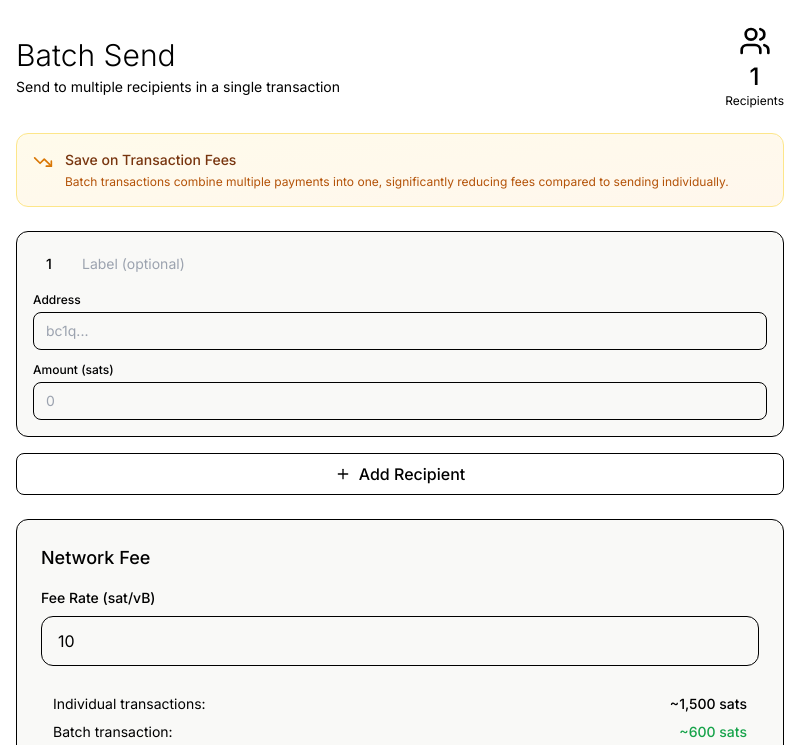
it: BatchSend Component › should update total when amount is entered
Type "10000" into the number field with placeholder "0" at x=400, y=401, box [33,382,767,420]
(page scrolled)
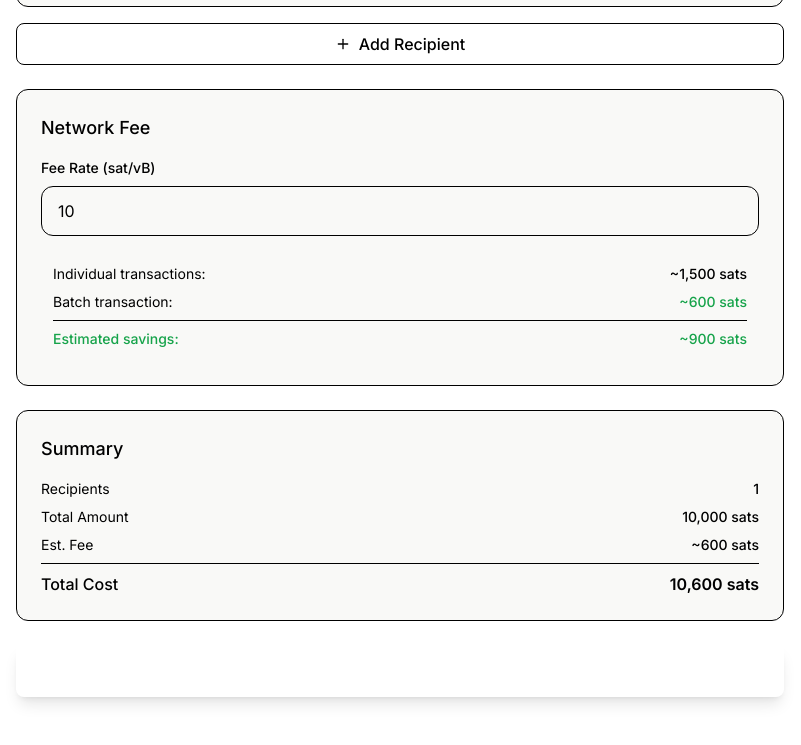
Now the text "10,000 sats" is shown, box [682,507,759,527]
